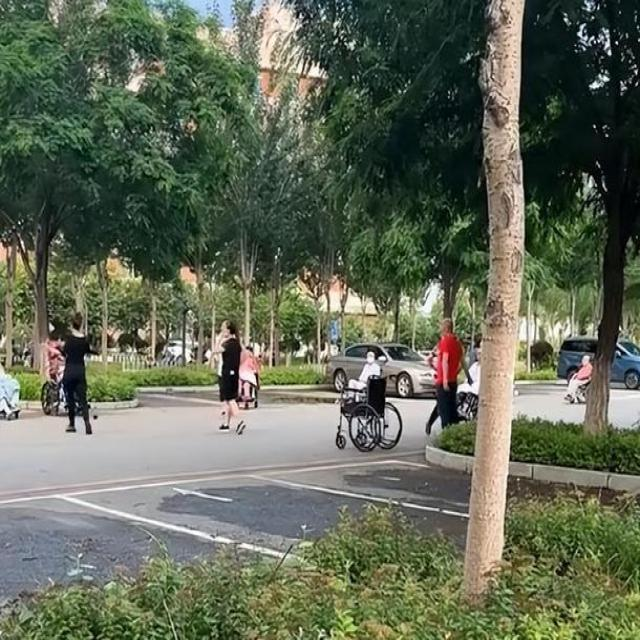wheelchairs: (329, 371, 405, 466)
